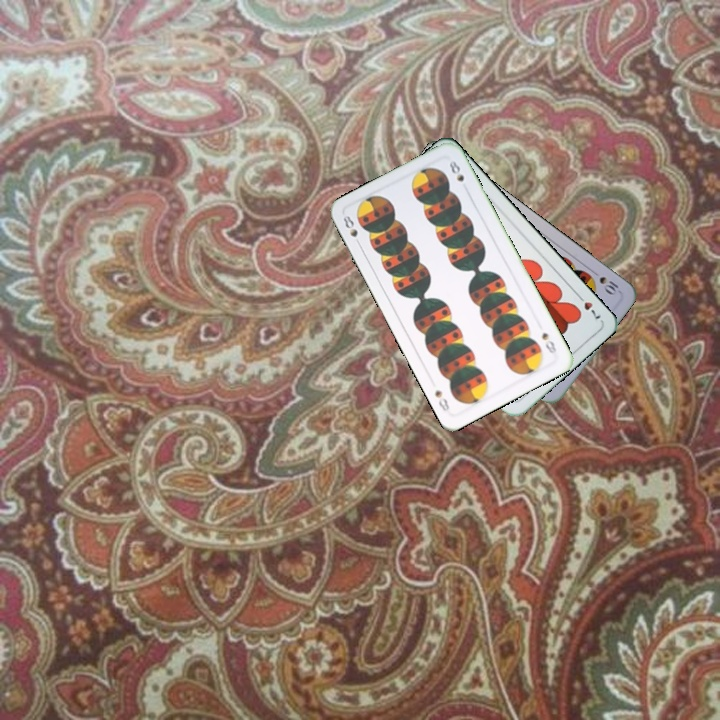H7: (572, 289, 603, 322)
S10: (587, 266, 623, 298)
S8: (339, 211, 364, 249), (538, 328, 559, 358)
